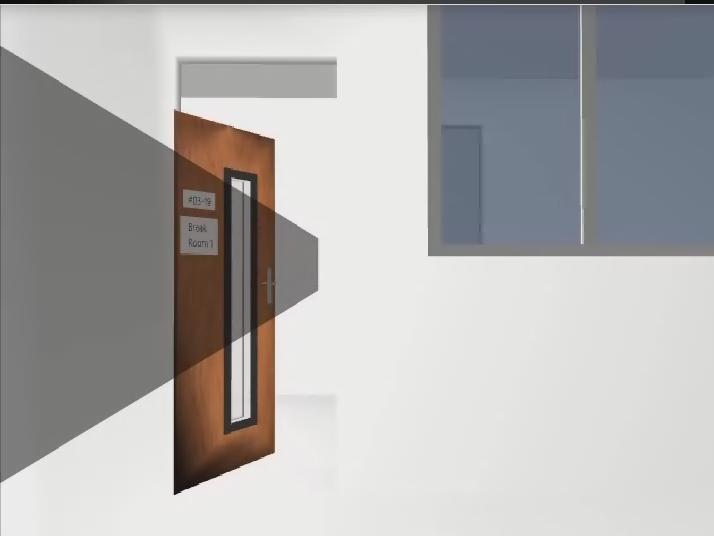door: (174, 110, 275, 495)
